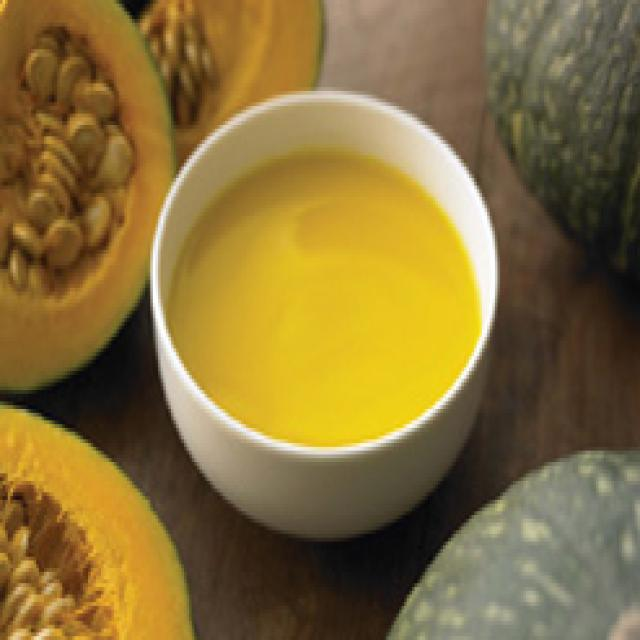汤锅炖物: (142, 84, 498, 542)
